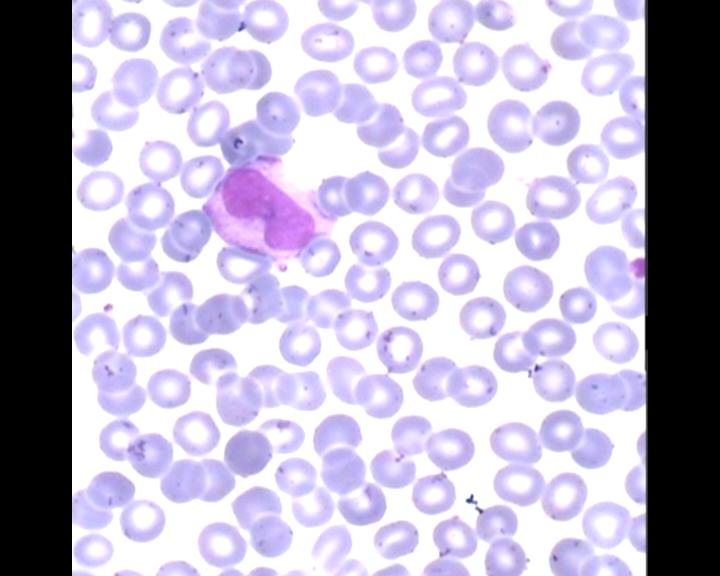mono: (199, 149, 337, 276)
